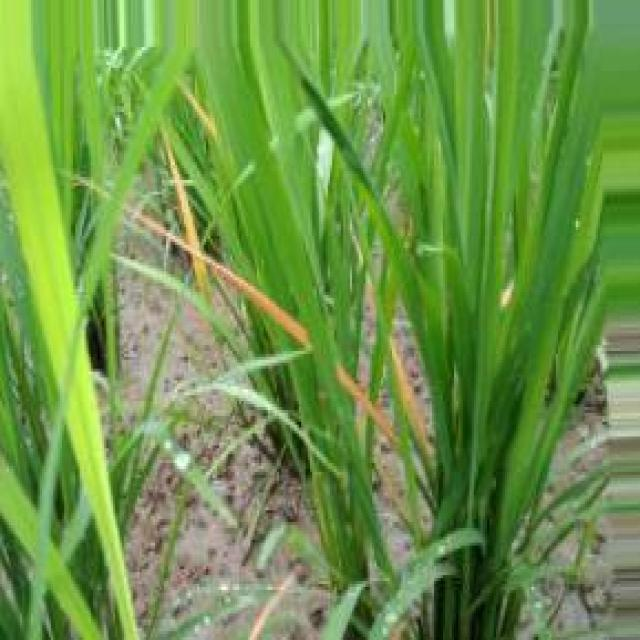Rice Tungro: (136, 216, 310, 347), (134, 216, 308, 345), (392, 336, 430, 459), (336, 367, 394, 440), (164, 135, 199, 252), (193, 255, 210, 299)
